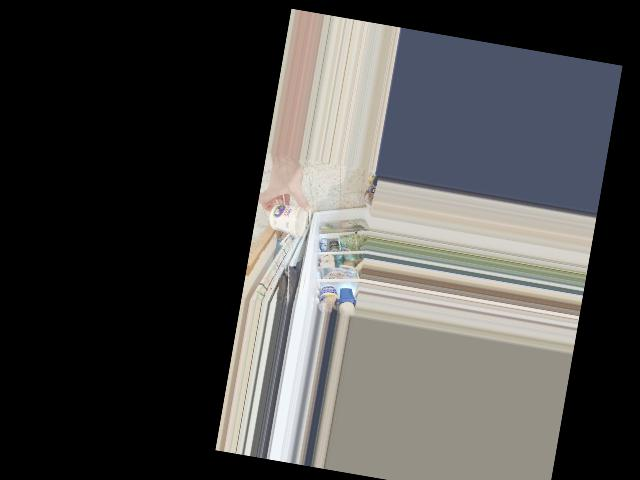cotage: (267, 201, 302, 230)
